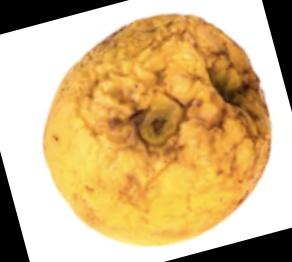Apple: (52, 16, 273, 245)
